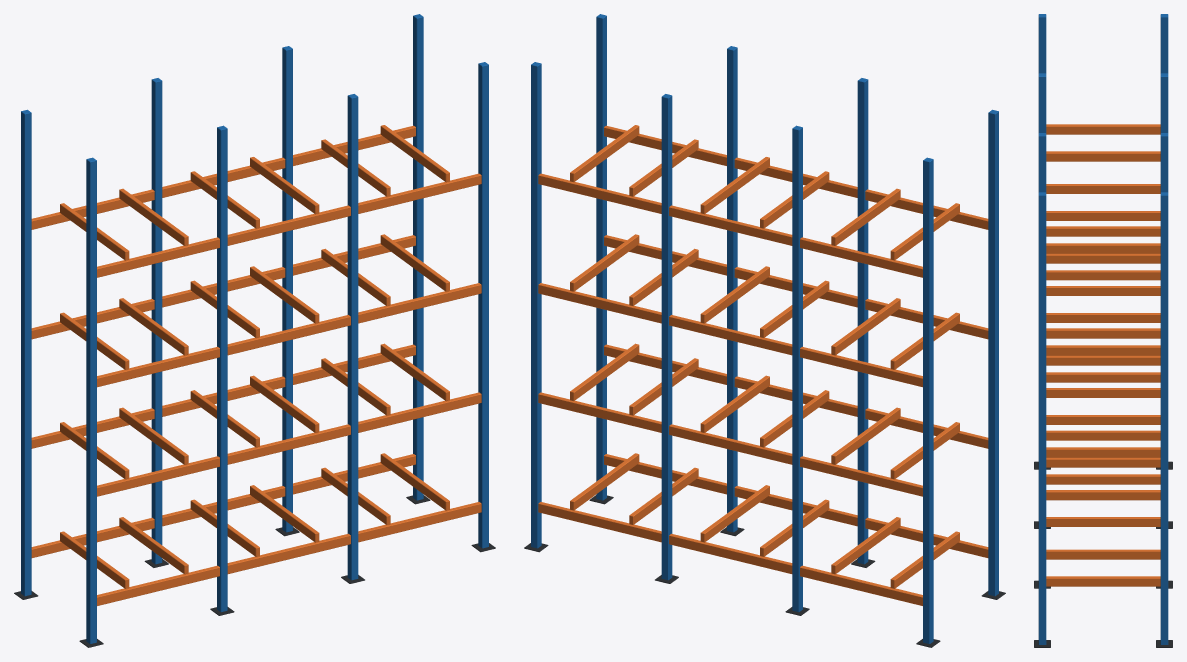
The model's file is rack.glb.
3 renders of one model, left to right at view 1: azimuth 30°, elevation 25°; view 2: azimuth 150°, elevation 25°; view 3: azimuth 270°, elevation 25°, orthographic. The views are drawn at different scales.
Parts seen in each view (by area): view 1: Rack; view 2: Rack; view 3: Rack.
Part boxes in pixels (<box>): Rack: <box>14,14,495,647</box>; Rack: <box>524,14,1005,647</box>; Rack: <box>1034,14,1172,647</box>.
Size of the model in its own units: 4.68 by 5.3 by 1.48.
